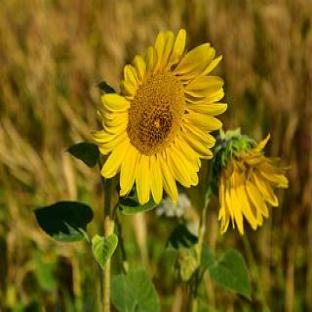sunflower: (67, 29, 228, 312)
